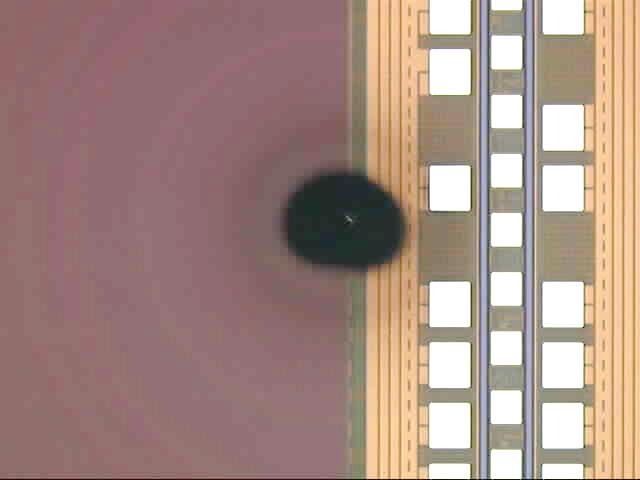PIQ PARTICLE: (260, 148, 432, 299)
